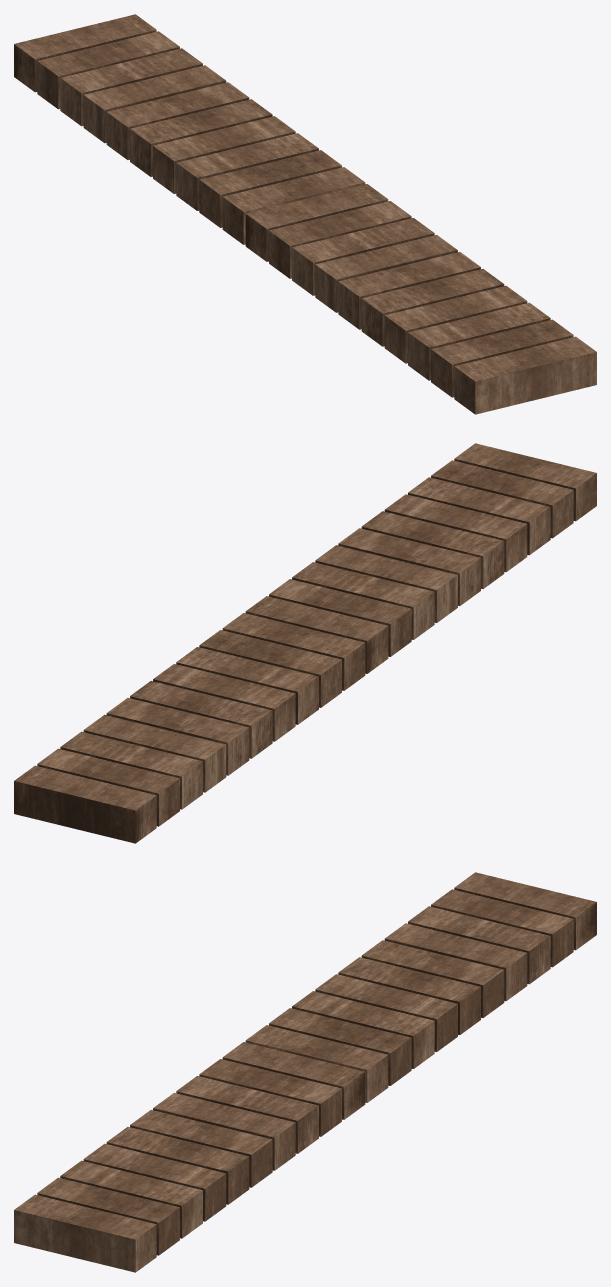
The model's file is steps.glb.
The picture shows the model from 3 angles, top to bottom: view 1: azimuth 30°, elevation 25°; view 2: azimuth 150°, elevation 25°; view 3: azimuth 330°, elevation 25°; orthographic projection.
Visible parts, largest first — view 1: Center.000, Center.001; view 2: Center.001, Center.000; view 3: Center.000, Center.001.
Boxes of the visible parts, left/top/right/bottom form: Center.000: left=245, top=184, right=596, bottom=414; Center.001: left=14, top=14, right=365, bottom=244; Center.001: left=14, top=613, right=365, bottom=843; Center.000: left=245, top=443, right=596, bottom=673; Center.000: left=14, top=1042, right=365, bottom=1272; Center.001: left=245, top=872, right=596, bottom=1102.
Bounding box in the file's own units: 3.04 × 0.7883 × 19.96.
1 material, 1 textured.
